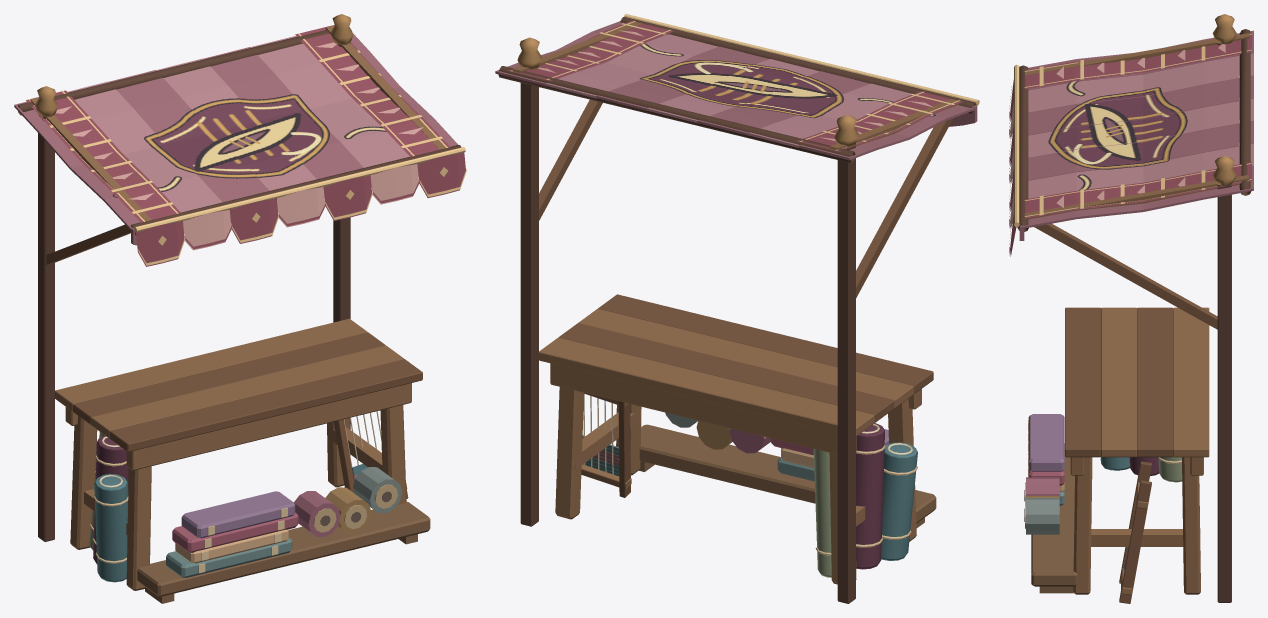
File: stall_weaver.glb
3 renders of one model, left to right at view 1: azimuth 30°, elevation 25°; view 2: azimuth 150°, elevation 25°; view 3: azimuth 270°, elevation 25°, orthographic. The views are drawn at different scales.
Parts seen in each view (by area): view 1: stall_weaver; view 2: stall_weaver; view 3: stall_weaver.
Part boxes in pixels (x1,y1,x2,y2): stall_weaver: (14, 14, 466, 603); stall_weaver: (495, 14, 979, 603); stall_weaver: (1009, 14, 1253, 603).
Size of the model in its own units: 1.9 by 2.5 by 1.24.
Materials: 13 (1 with a texture image).
